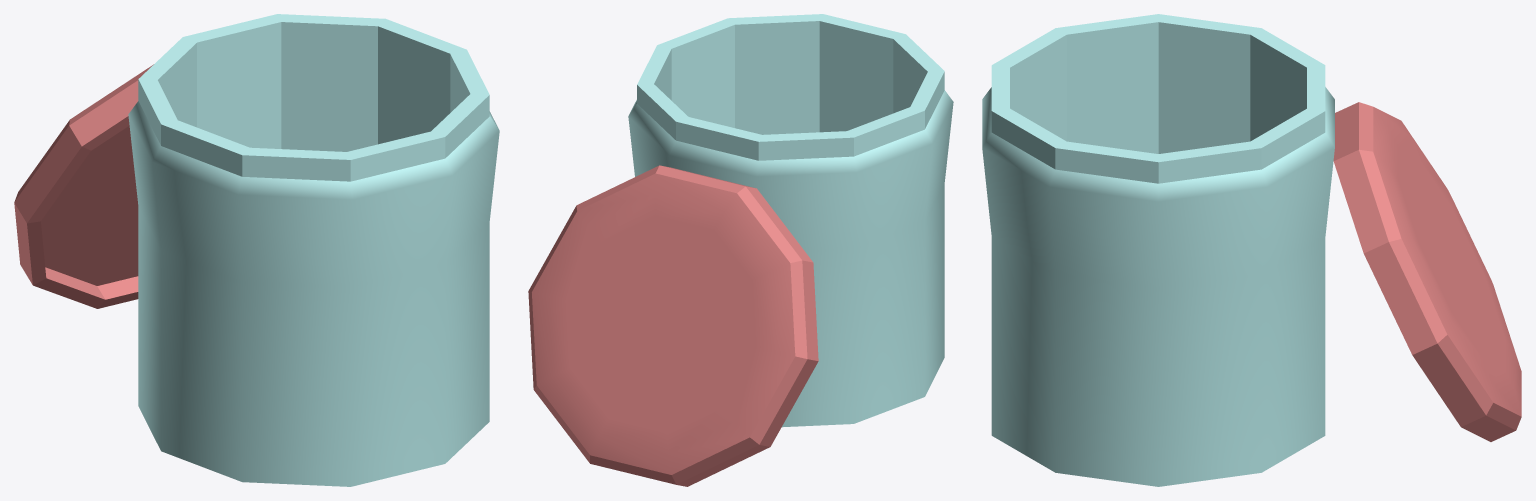
Rendered from jarshattered.fbx.
3 renders of one model, left to right at view 1: azimuth 30°, elevation 25°; view 2: azimuth 150°, elevation 25°; view 3: azimuth 270°, elevation 25°, orthographic. The views are drawn at different scales.
Visible parts, largest first — view 1: pCylinder4; view 2: pCylinder4; view 3: pCylinder4.
Part boxes in pixels (x1,y1,x2,y2): pCylinder4: [14, 14, 499, 486]; pCylinder4: [528, 14, 953, 486]; pCylinder4: [982, 14, 1521, 486].
Size of the model in its own units: 5.24 by 5.18 by 7.62.
